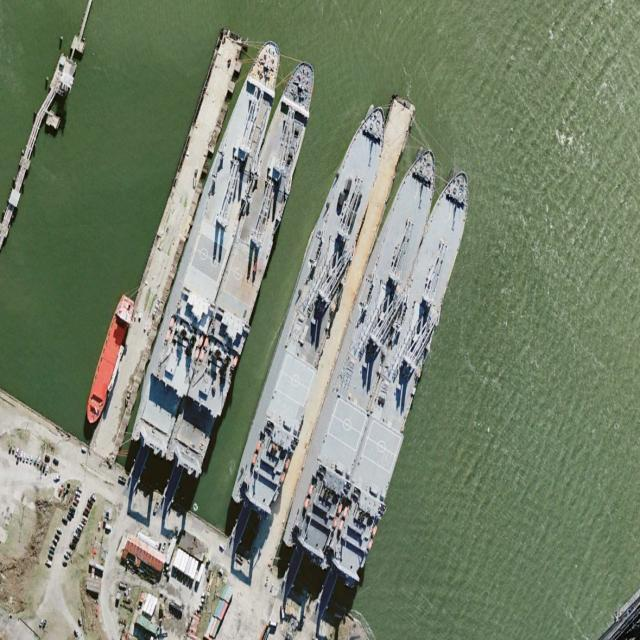Cargo: (276, 136, 452, 570), (227, 90, 399, 527), (125, 26, 292, 462), (322, 159, 485, 596), (164, 50, 327, 482)
Other Ship: (81, 292, 136, 429)
